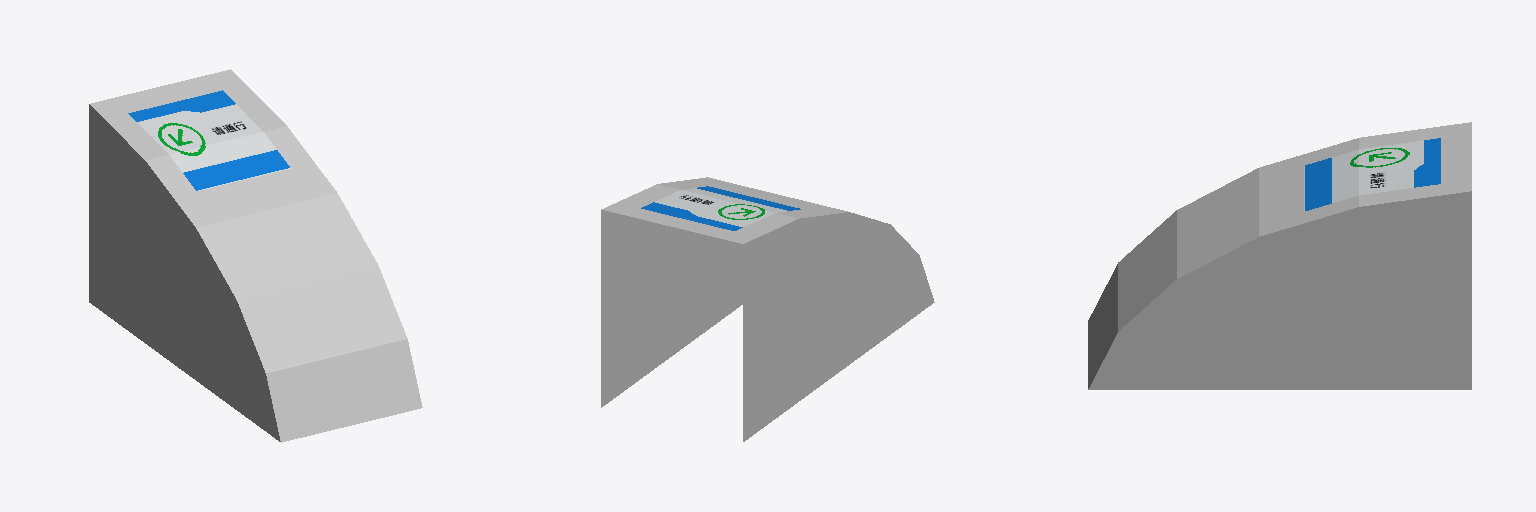
3 renders of one model, left to right at view 1: azimuth 30°, elevation 25°; view 2: azimuth 150°, elevation 25°; view 3: azimuth 270°, elevation 25°, orthographic.
Visible parts, largest first — view 1: open; view 2: open; view 3: open.
Boxes of the visible parts, x1,y1,x2,y2 form: open: [89, 69, 422, 442]; open: [601, 177, 934, 441]; open: [1088, 122, 1471, 389].
Size of the model in its own units: 0.1869 by 0.25 by 0.4375.
Materials: 2 (1 with a texture image).